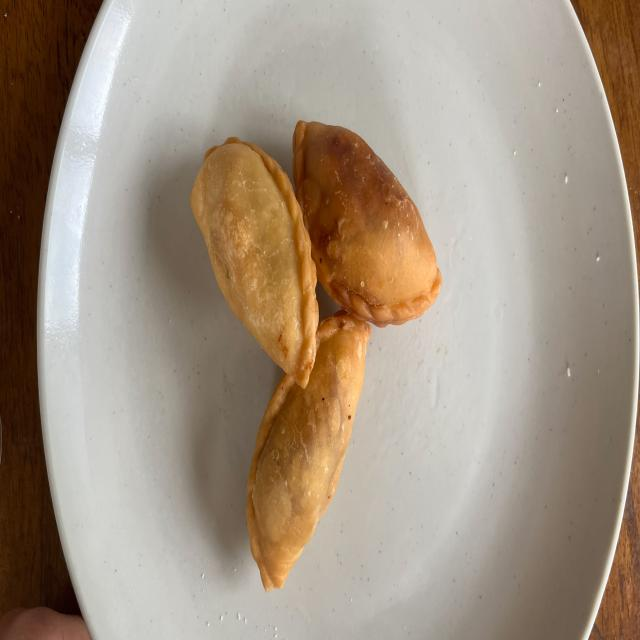karipap: (246, 311, 371, 591), (190, 138, 319, 389), (292, 120, 441, 327)
